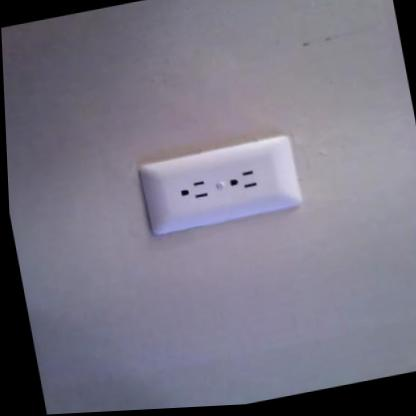OUTLET: (134, 132, 304, 237)
